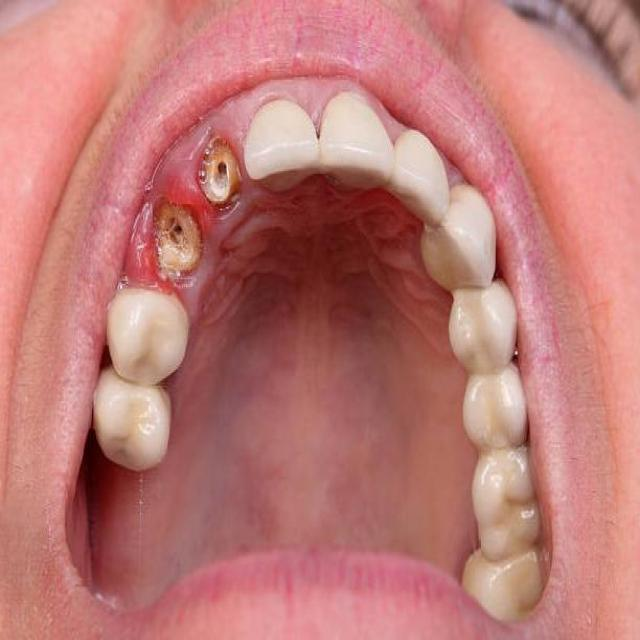caries: (149, 200, 211, 280), (191, 126, 244, 206)
